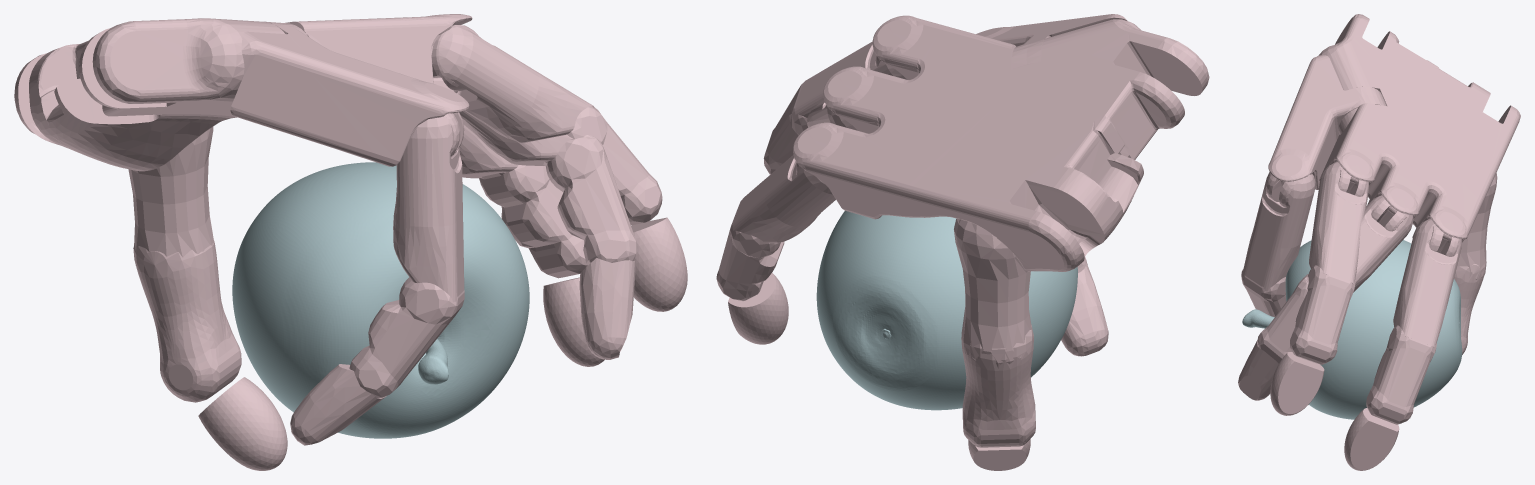
File: grasp_0.glb
The picture shows the model from 3 angles, left to right: view 1: azimuth 30°, elevation 25°; view 2: azimuth 150°, elevation 25°; view 3: azimuth 270°, elevation 25°; orthographic projection. The views are drawn at different scales.
Visible parts, largest first — view 1: world; view 2: world; view 3: world.
Boxes of the visible parts, left/top/right/bottom form: world: left=14, top=14, right=687, bottom=470; world: left=716, top=14, right=1209, bottom=470; world: left=1238, top=14, right=1520, bottom=470.
Bounding box in the file's own units: 0.165 × 0.1499 × 0.1136.
